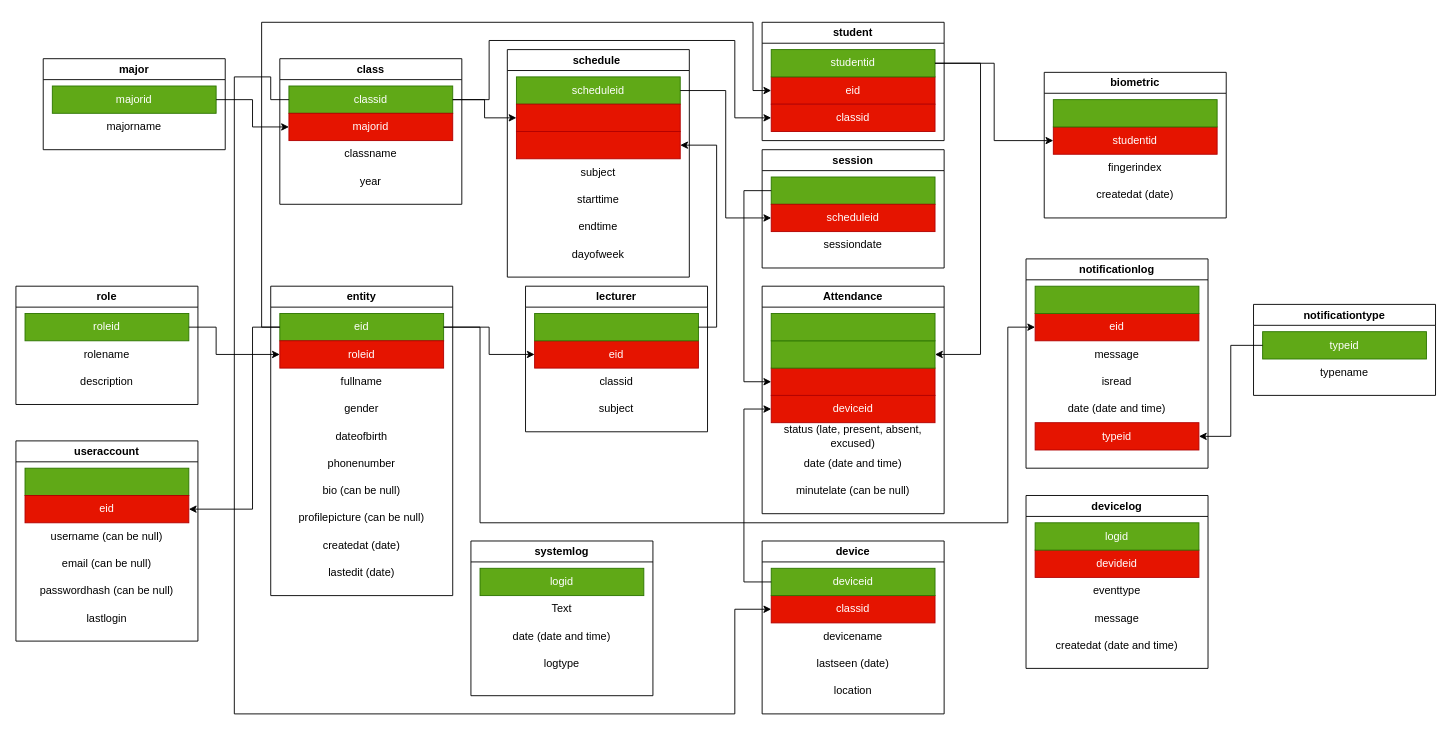
This 1451x737 diagram has some shape labels left out. Here are the shapes that lost their labels. From the top down, the centre of each, then its label:
At [598,117]: "classid (not unique)".
At [1134,113]: "biometricid".
At [598,145]: "lecturerid (not unique)".
At [852,190]: "sessionid".
At [1116,299]: "notificationid".
At [616,327]: "lecturerid".
At [852,327]: "attendanceid".
At [852,354]: "studentid (unique)".
At [852,381]: "sessionid (unique)".
At [106,481]: "userid".
